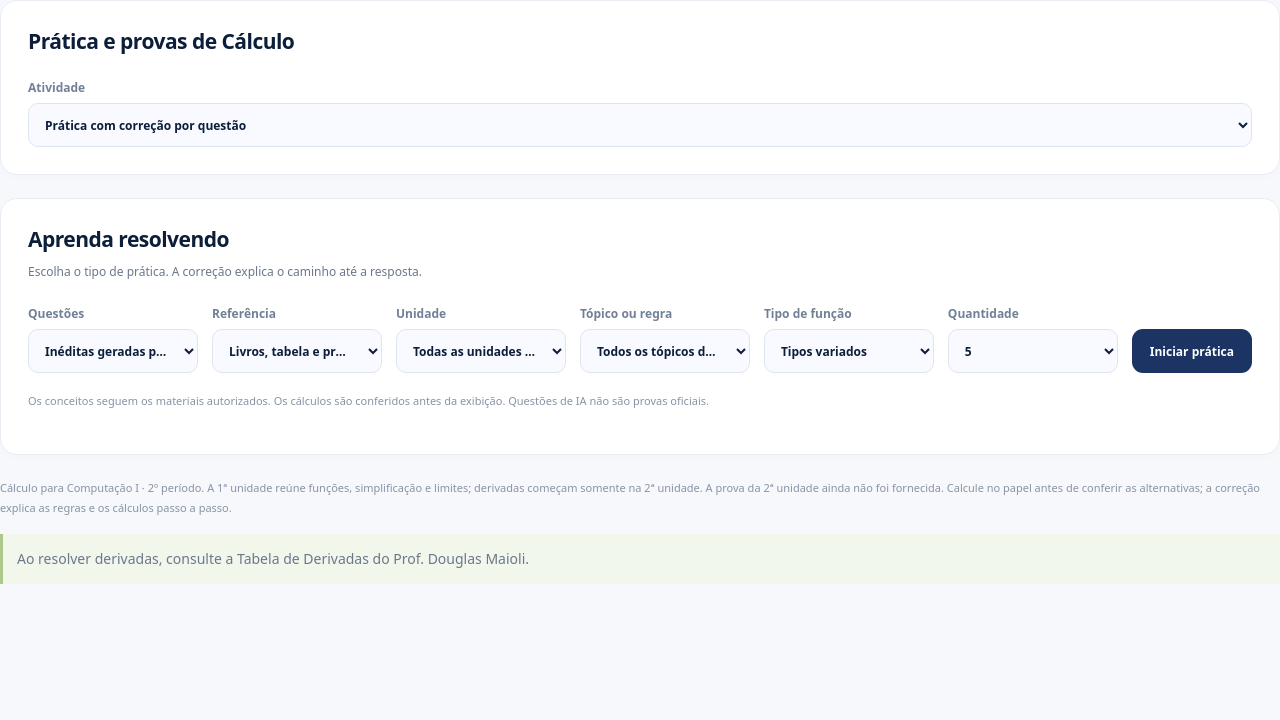
Test case: esconde a prática anterior ao mudar o tipo de função
Click the button "Iniciar prática".
click(1192, 351)  # box [1132,329,1252,373]
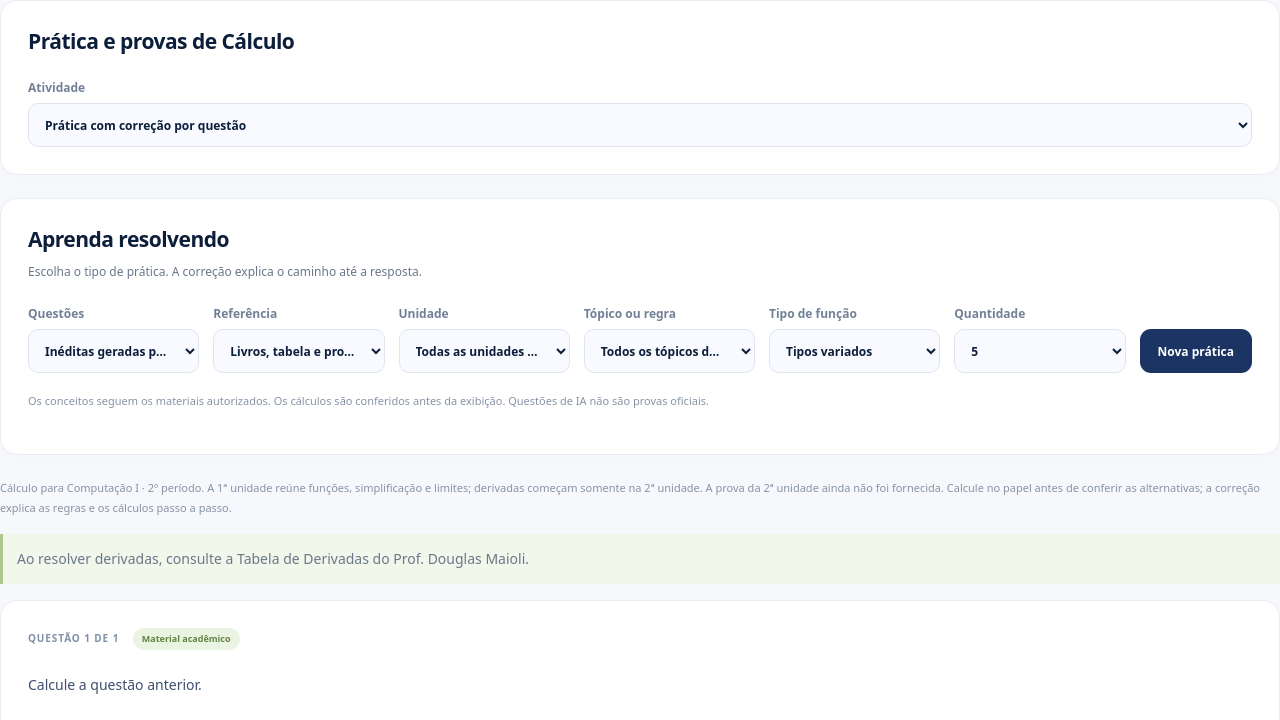
Check: the text "Calcule a questão anterior." is shown, box [28,675,202,694]
Select "Com radical" in the dropdown labelled "Tipo de função" at (855, 351), box [769,329,940,373]
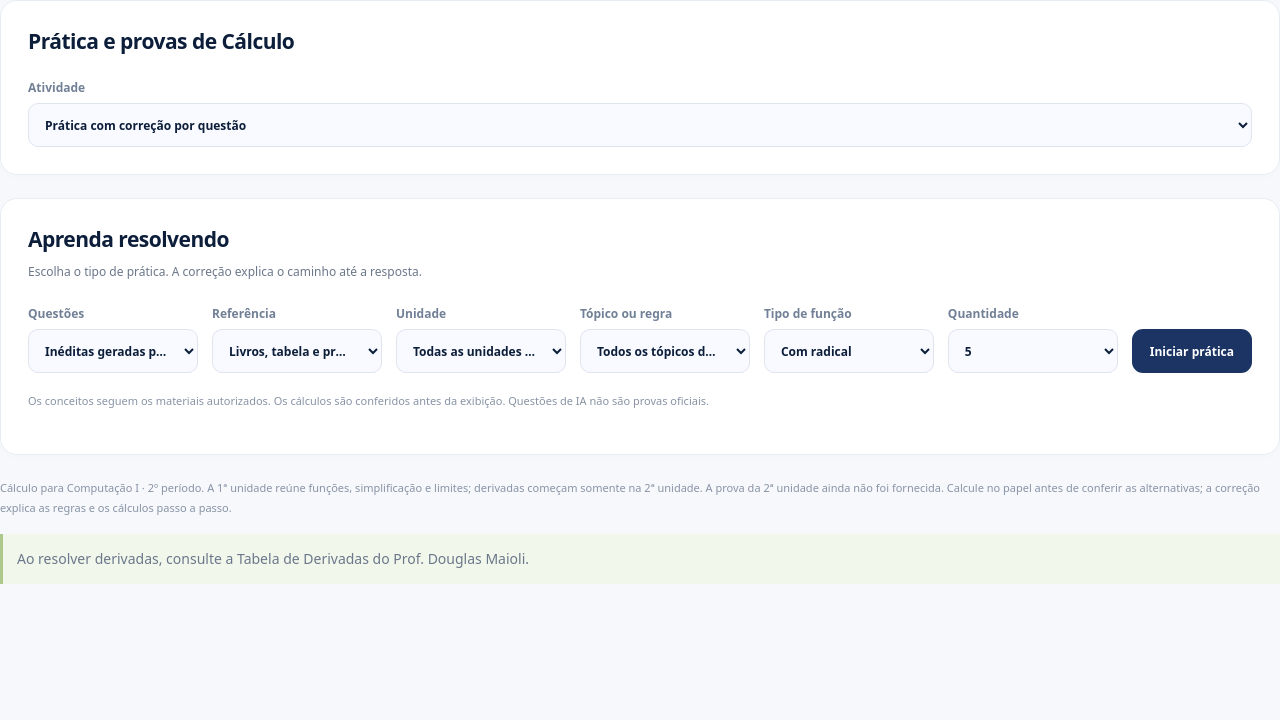
Check: the text "Calcule a questão anterior." is gone
